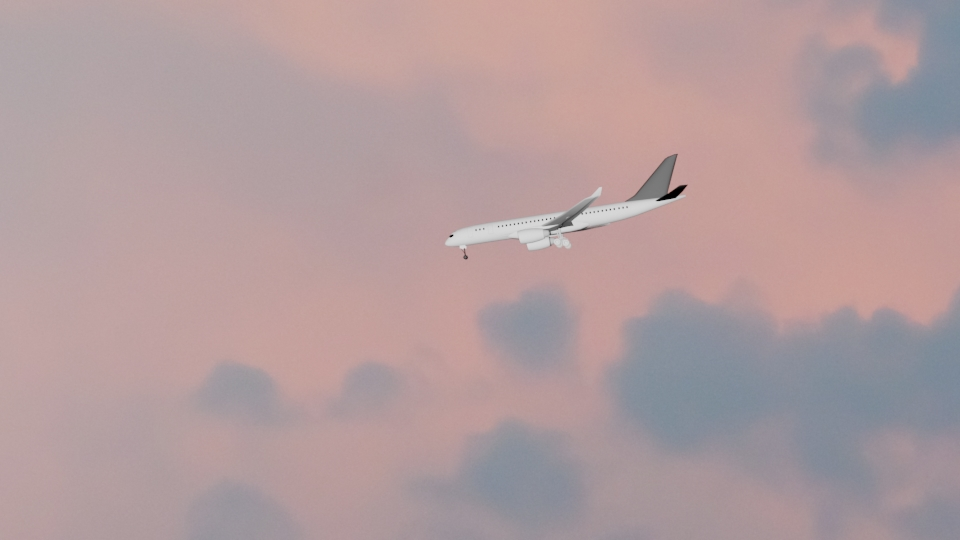plane: (438, 151, 686, 260)
